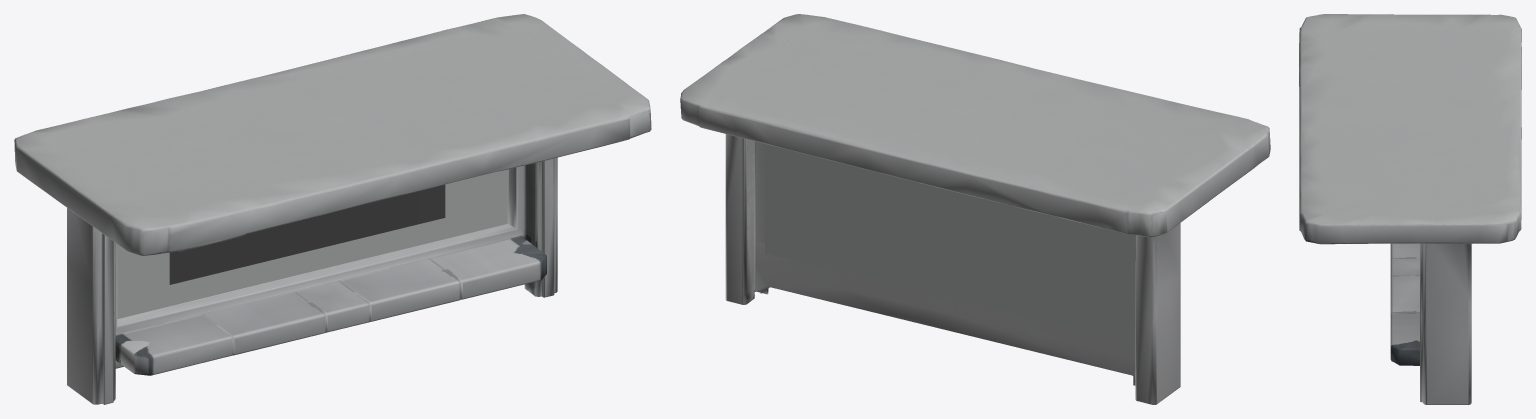
Rendered from shelter.glb.
The picture shows the model from 3 angles, left to right: view 1: azimuth 30°, elevation 25°; view 2: azimuth 150°, elevation 25°; view 3: azimuth 270°, elevation 25°; orthographic projection. The views are drawn at different scales.
Parts seen in each view (by area): view 1: low; view 2: low; view 3: low.
Boxes of the visible parts, bbox=[...] form: low: bbox=[14, 14, 651, 404]; low: bbox=[680, 14, 1270, 404]; low: bbox=[1299, 14, 1521, 404].
Bounding box in the file's own units: 1.87 × 0.7994 × 0.8382.
1 material, 1 textured.
